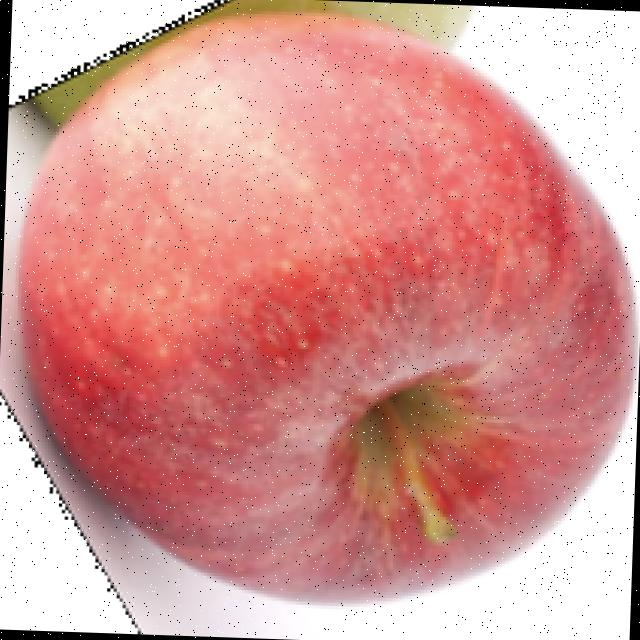apple: (1, 0, 640, 621)
